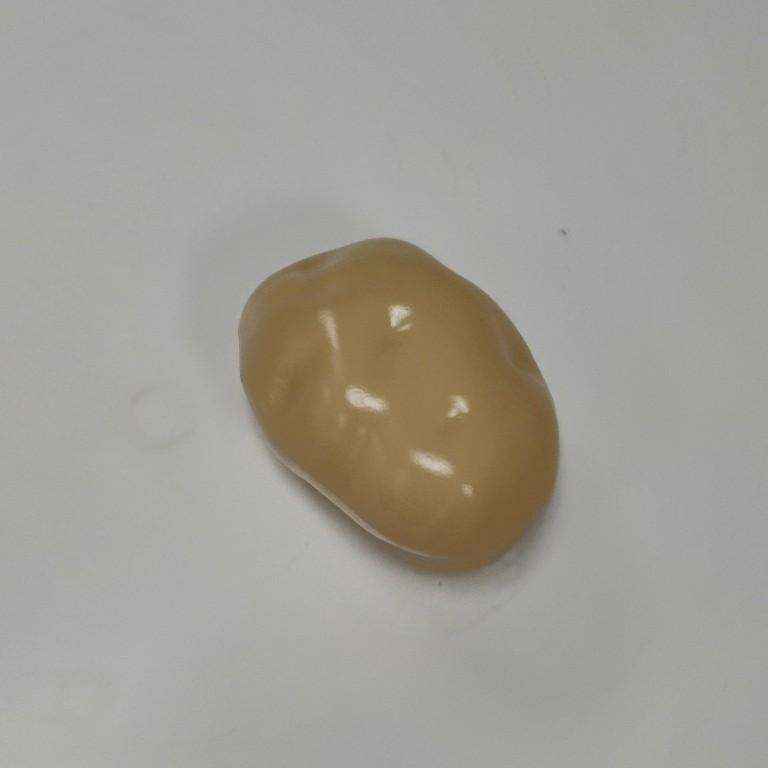fruit_potato: (233, 235, 563, 570)
